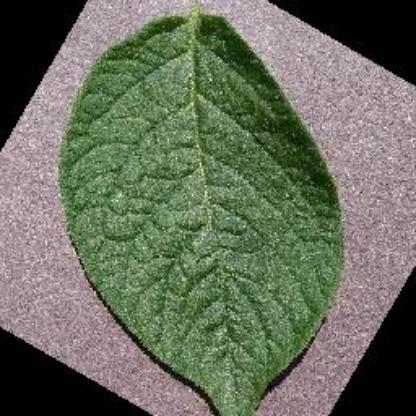Healthy-plant: (56, 4, 346, 416)
